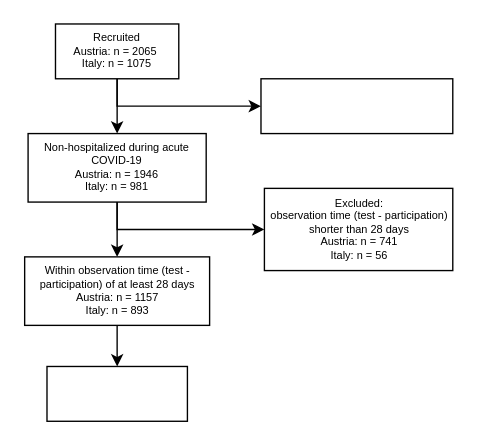
The diagram is 477 pixels wide and 445 high, and some of its shapes have lost their labels. The shapes that lost their labels are listed below. From the top down, each one's centre as x and y in pixels, then its label:
At [356,105]: "Excluded: hospitalized during acute COVID-19 Austria: n = 83 Italy: n = 84".
At [116,393]: "Included in all analyses Austria: n = 1157 Italy: n = 893".
